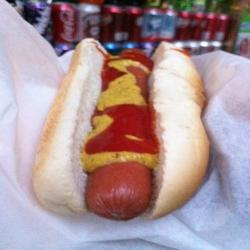hotdog: (24, 25, 217, 226)
